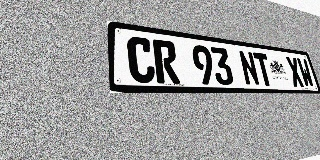3: (210, 47, 234, 85)
9: (191, 44, 216, 85)
C: (126, 36, 156, 83)
N: (238, 50, 260, 86)
R: (152, 39, 180, 84)
T: (253, 52, 274, 86)
W: (296, 58, 315, 87)
X: (285, 56, 305, 87)
